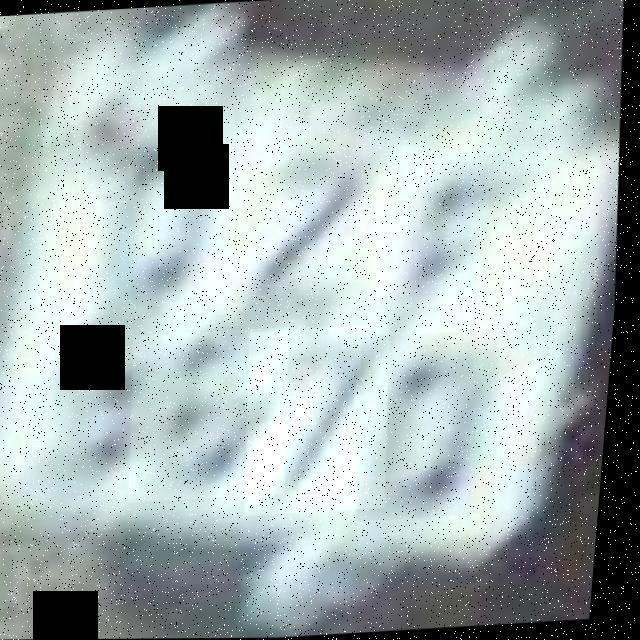0: (355, 330, 517, 522)
1: (244, 325, 405, 516)
5: (128, 327, 303, 503)
F: (364, 146, 532, 349)
O: (69, 110, 247, 318)
